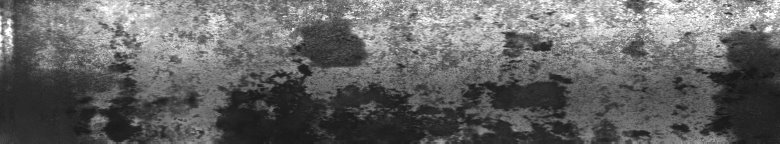kb: (396, 4, 776, 136)
